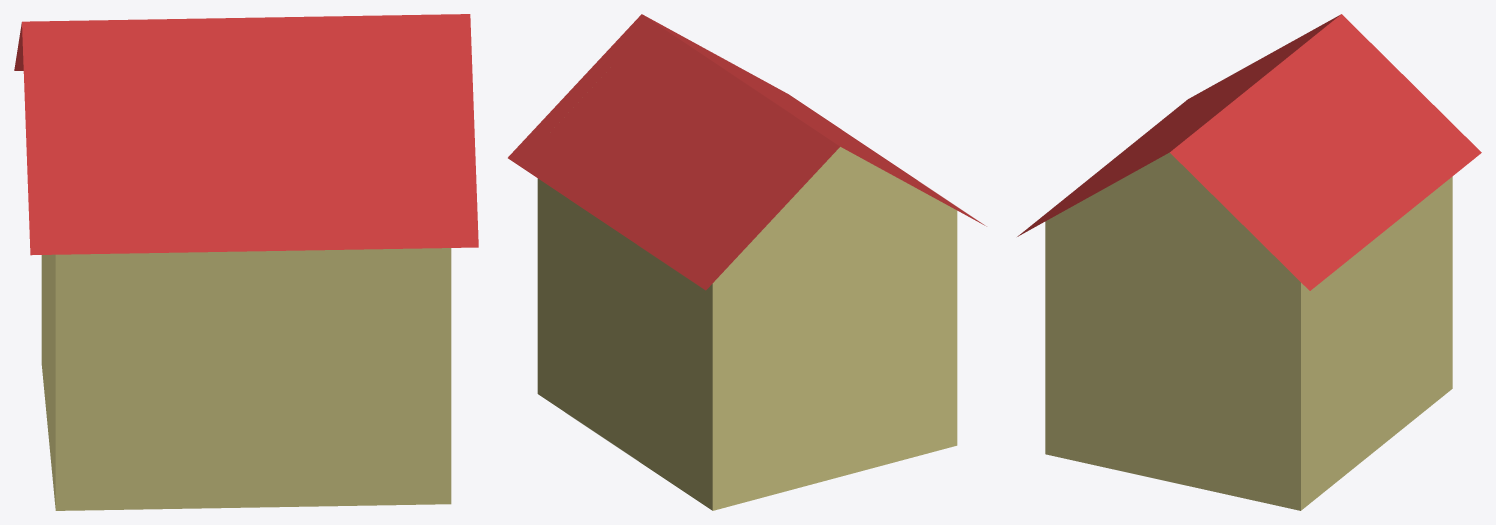
3 renders of one model, left to right at view 1: azimuth 30°, elevation 25°; view 2: azimuth 150°, elevation 25°; view 3: azimuth 270°, elevation 25°, orthographic. The views are drawn at different scales.
Bounding box in the file's own units: 16.6 × 16.05 × 12.92.
